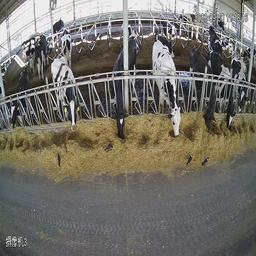cow: (150, 41, 184, 136), (47, 55, 82, 140), (111, 38, 139, 144), (205, 49, 234, 129), (188, 46, 214, 127), (8, 67, 32, 132), (230, 55, 245, 114), (59, 24, 75, 72), (35, 34, 49, 81), (20, 36, 40, 66), (207, 25, 224, 58), (48, 20, 66, 49), (177, 11, 197, 36), (160, 18, 178, 40)
